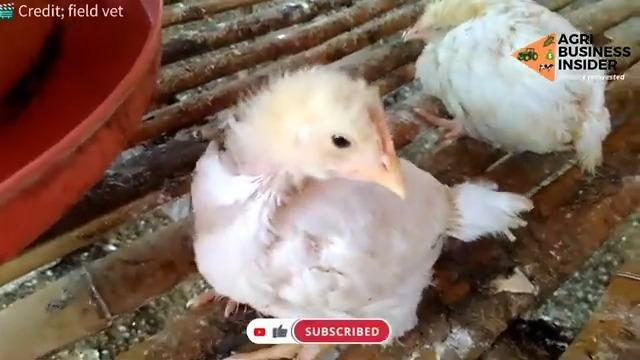Normal: (192, 66, 405, 299)
